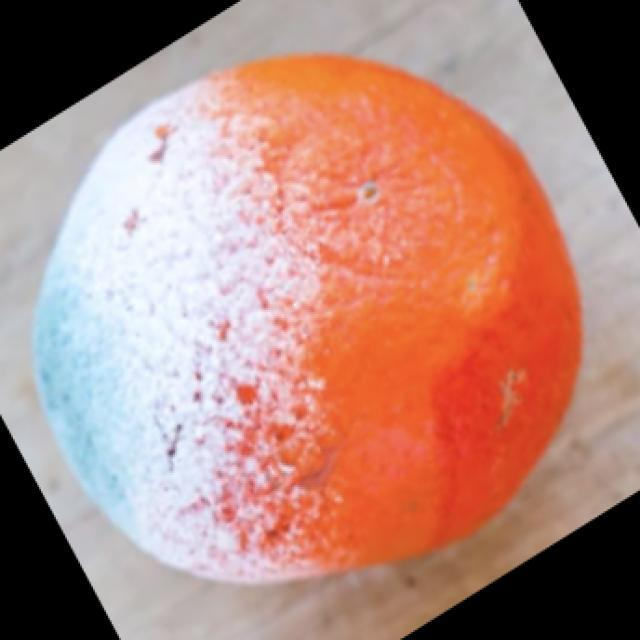sangat-busuk: (37, 55, 581, 581), (36, 116, 301, 573)
